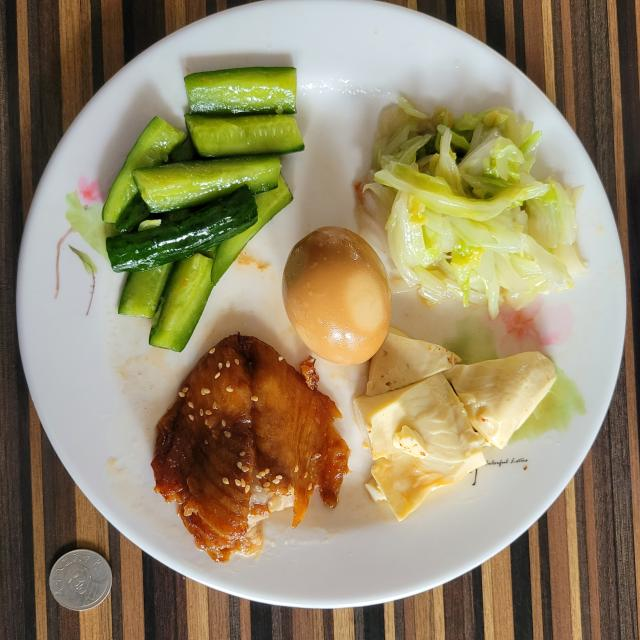Kabayaki sea bream fillet: (151, 334, 349, 561)
cabbage: (356, 98, 585, 318)
coin: (49, 549, 112, 611)
cucumber: (102, 68, 304, 351)
soy egg: (282, 226, 391, 365)
